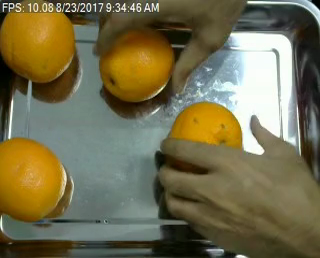Orange: (2, 1, 76, 83), (1, 136, 69, 220)
